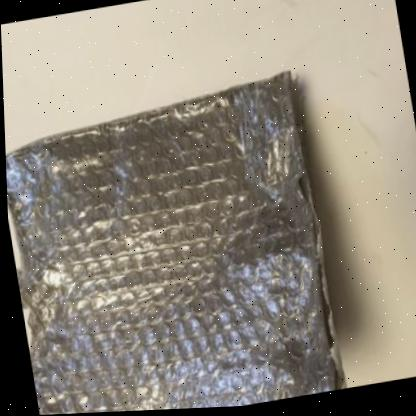Plastic: (5, 74, 344, 415)
